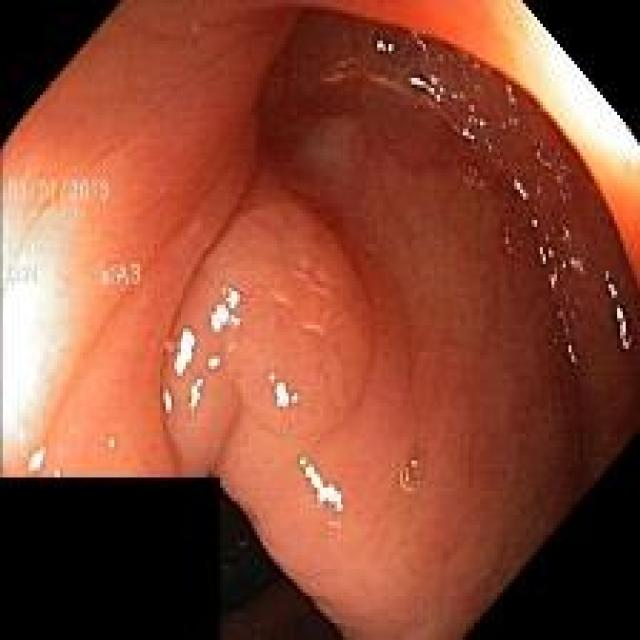Polyps: (164, 194, 379, 472)
